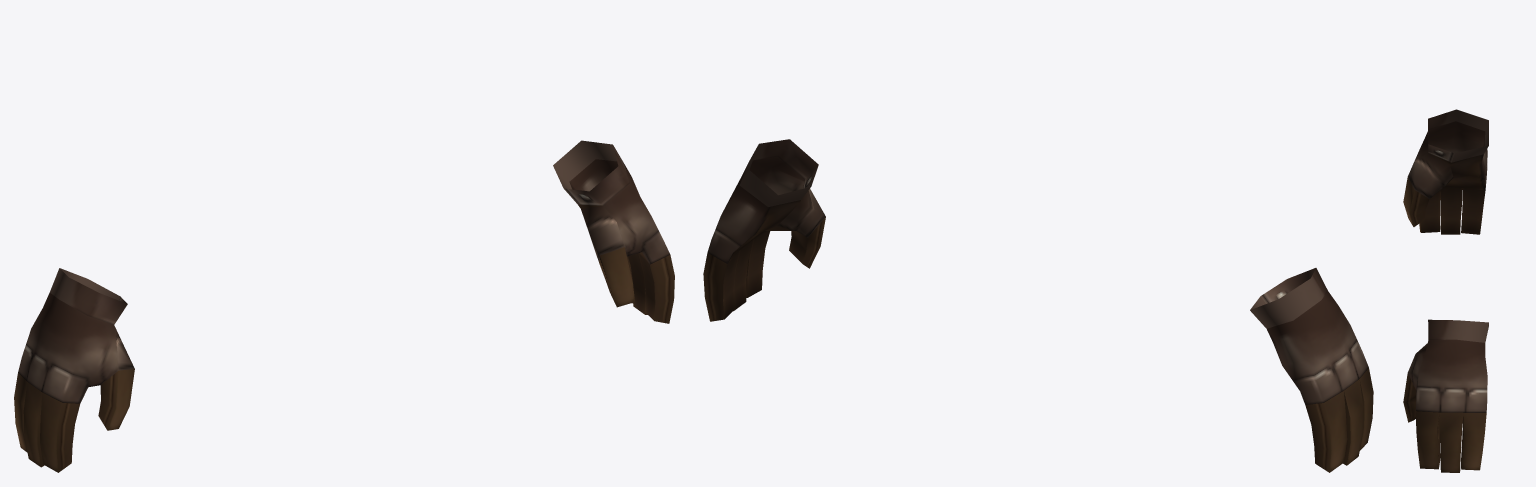
File: hum_engineer_03_6e6a339a.glb
3 renders of one model, left to right at view 1: azimuth 30°, elevation 25°; view 2: azimuth 150°, elevation 25°; view 3: azimuth 270°, elevation 25°, orthographic. The views are drawn at different scales.
Size of the model in its own units: 1.74 by 0.7711 by 0.3538.
Materials: 1 (1 with a texture image).
